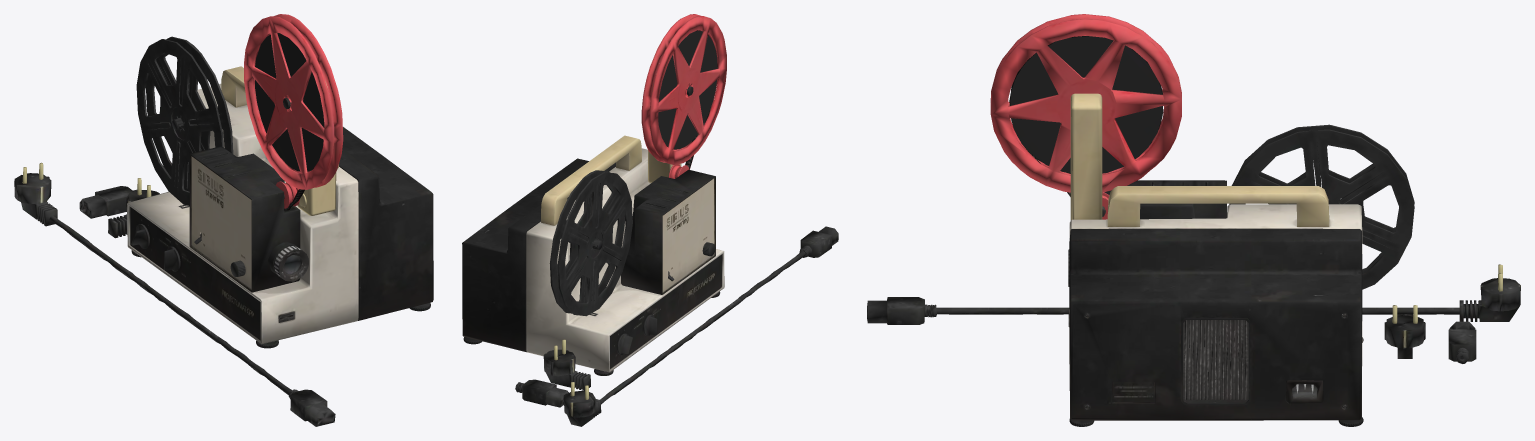
The model's file is filmstrip_projector_8mm.glb.
The picture shows the model from 3 angles, left to right: view 1: azimuth 30°, elevation 25°; view 2: azimuth 150°, elevation 25°; view 3: azimuth 270°, elevation 25°; orthographic projection. The views are drawn at different scales.
Visible parts, largest first — view 1: filmstrip_projector_8mm, filmstrip_projector_8mm_spool_feed, filmstrip_projector_8mm_spool_takeup, filmstrip_projector_8mm_cable, filmstrip_projector_8mm_01_film_side, filmstrip_projector_8mm_connector, filmstrip_projector_8mm_spool_arm, filmstrip_projector_8mm_schuko; view 2: filmstrip_projector_8mm, filmstrip_projector_8mm_spool_takeup, filmstrip_projector_8mm_spool_feed, filmstrip_projector_8mm_cable, filmstrip_projector_8mm_01_film_side, filmstrip_projector_8mm_schuko, filmstrip_projector_8mm_connector, filmstrip_projector_8mm_spool_arm; view 3: filmstrip_projector_8mm, filmstrip_projector_8mm_spool_feed, filmstrip_projector_8mm_spool_takeup, filmstrip_projector_8mm_01_film_side, filmstrip_projector_8mm_cable, filmstrip_projector_8mm_spool_arm, filmstrip_projector_8mm_schuko, filmstrip_projector_8mm_connector.
Boxes of the visible parts, x1,y1,x2,y2 form: filmstrip_projector_8mm: (127, 66, 433, 348); filmstrip_projector_8mm_spool_feed: (244, 14, 343, 189); filmstrip_projector_8mm_spool_takeup: (136, 36, 233, 205); filmstrip_projector_8mm_cable: (14, 162, 335, 426); filmstrip_projector_8mm_01_film_side: (255, 33, 324, 171); filmstrip_projector_8mm_connector: (79, 186, 137, 218); filmstrip_projector_8mm_spool_arm: (297, 81, 336, 215); filmstrip_projector_8mm_schuko: (108, 178, 159, 238); filmstrip_projector_8mm: (462, 135, 724, 375); filmstrip_projector_8mm_spool_takeup: (549, 170, 632, 316); filmstrip_projector_8mm_spool_feed: (641, 14, 726, 164); filmstrip_projector_8mm_cable: (564, 226, 838, 426); filmstrip_projector_8mm_01_film_side: (658, 31, 717, 149); filmstrip_projector_8mm_schuko: (543, 339, 590, 390); filmstrip_projector_8mm_connector: (515, 379, 568, 407); filmstrip_projector_8mm_spool_arm: (648, 81, 681, 182); filmstrip_projector_8mm: (1068, 180, 1363, 426); filmstrip_projector_8mm_spool_feed: (990, 14, 1181, 192); filmstrip_projector_8mm_spool_takeup: (1229, 124, 1414, 289); filmstrip_projector_8mm_01_film_side: (1010, 36, 1163, 173); filmstrip_projector_8mm_cable: (867, 264, 1520, 324); filmstrip_projector_8mm_spool_arm: (1070, 93, 1102, 220); filmstrip_projector_8mm_schuko: (1384, 305, 1425, 358); filmstrip_projector_8mm_connector: (1448, 321, 1476, 363).
Bounding box in the file's own units: 0.2537 × 0.3454 × 0.6026.
2 materials, 2 textured.
